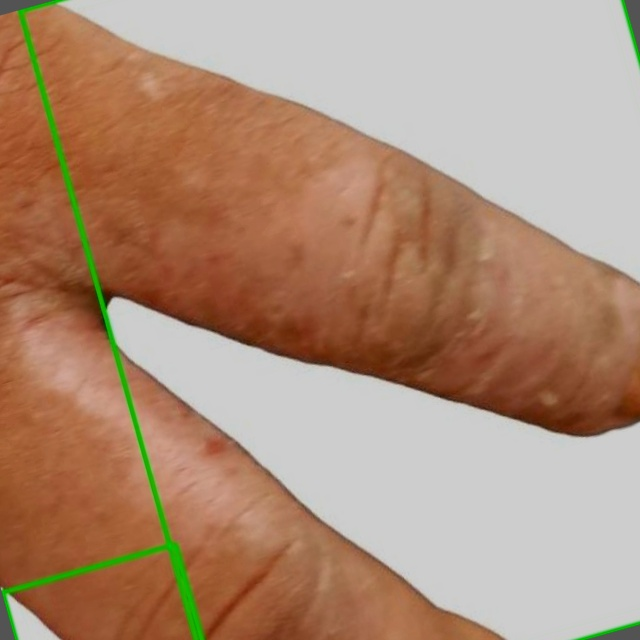Contact Dermatitis: (20, 0, 639, 639)
